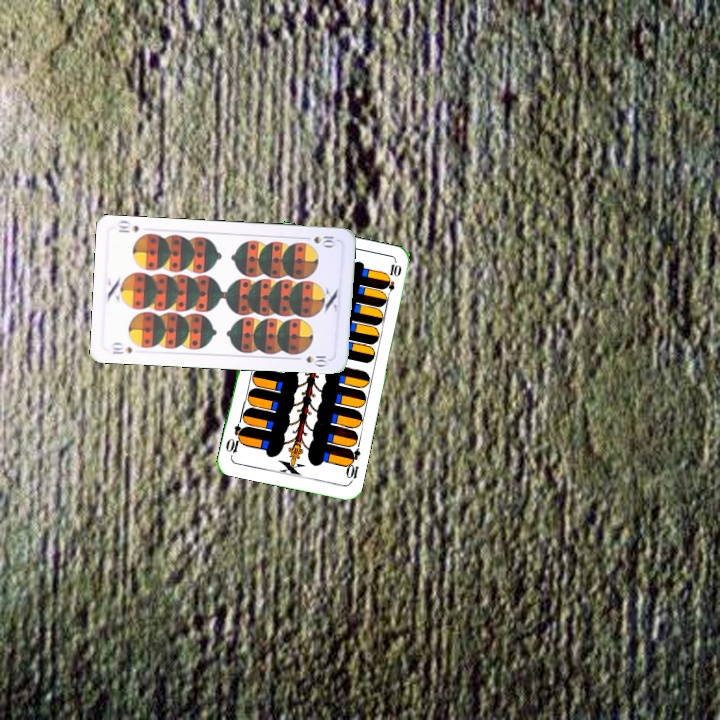E10: (342, 445, 363, 485)
S10: (299, 232, 338, 249), (107, 339, 135, 357)
